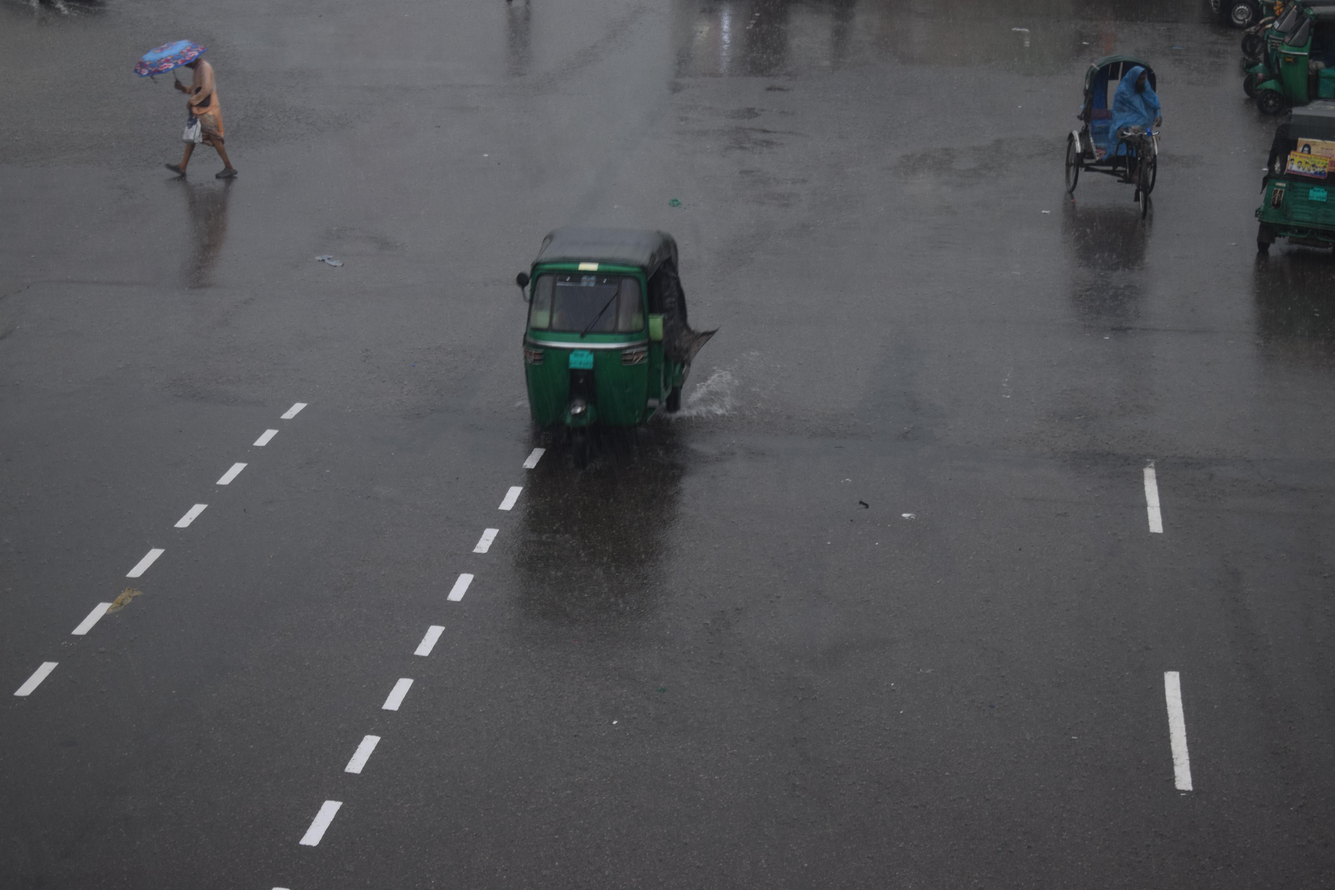Car: (1053, 29, 1197, 275)
